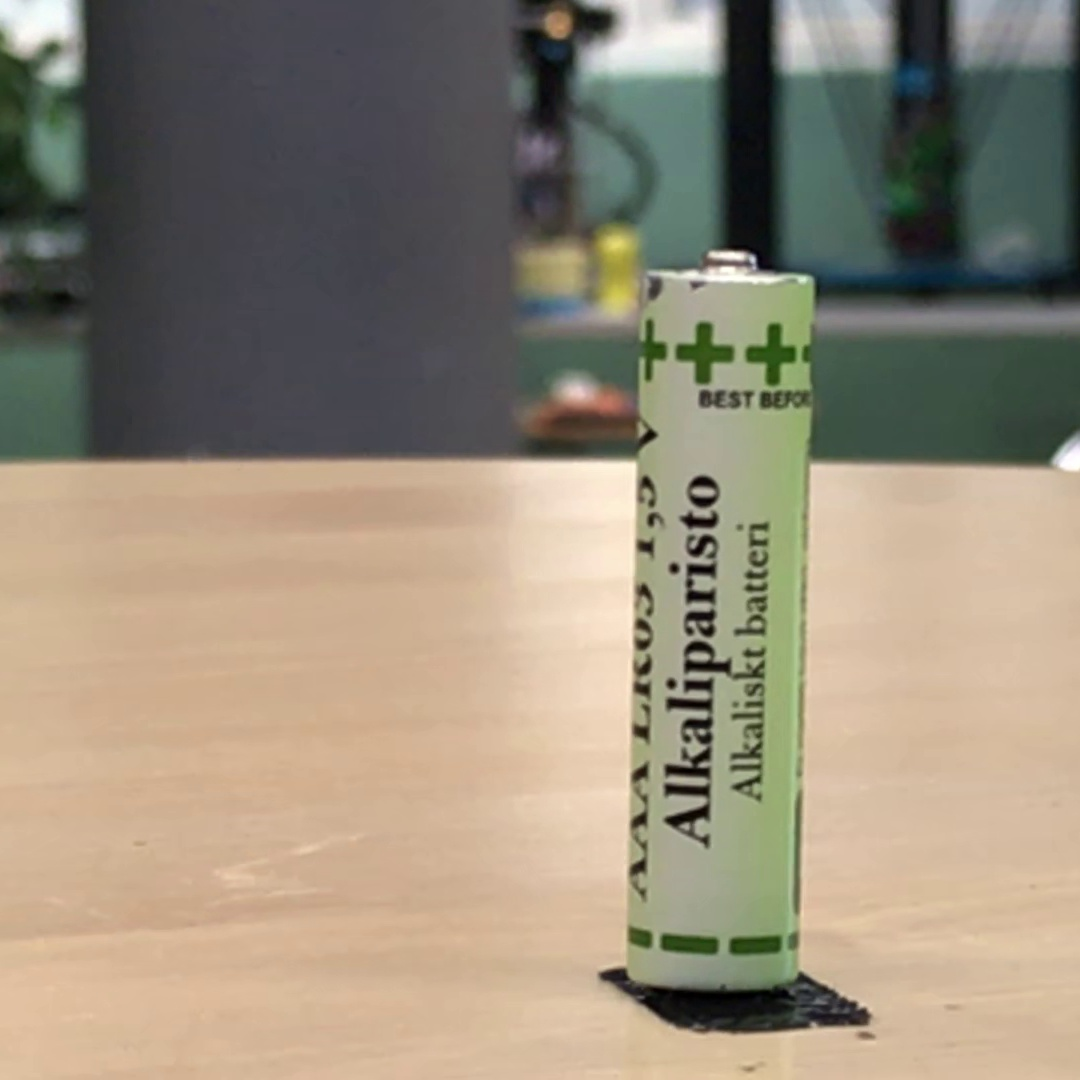keyword: (653, 772, 721, 858)
